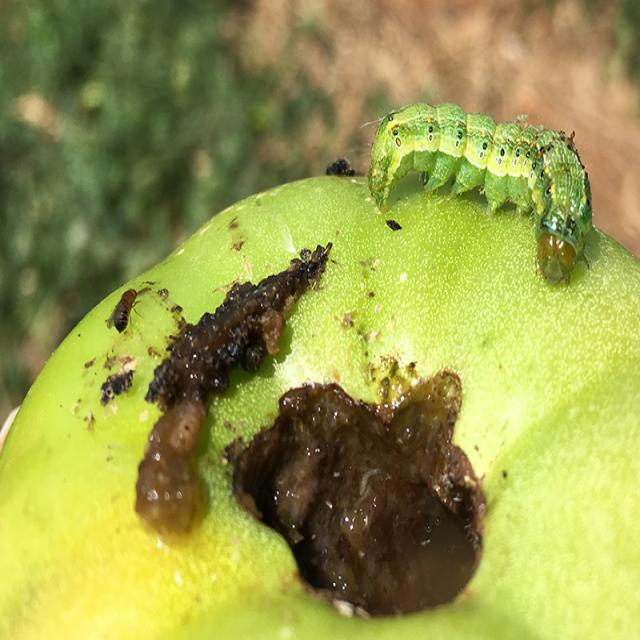worm: (364, 99, 595, 288)
